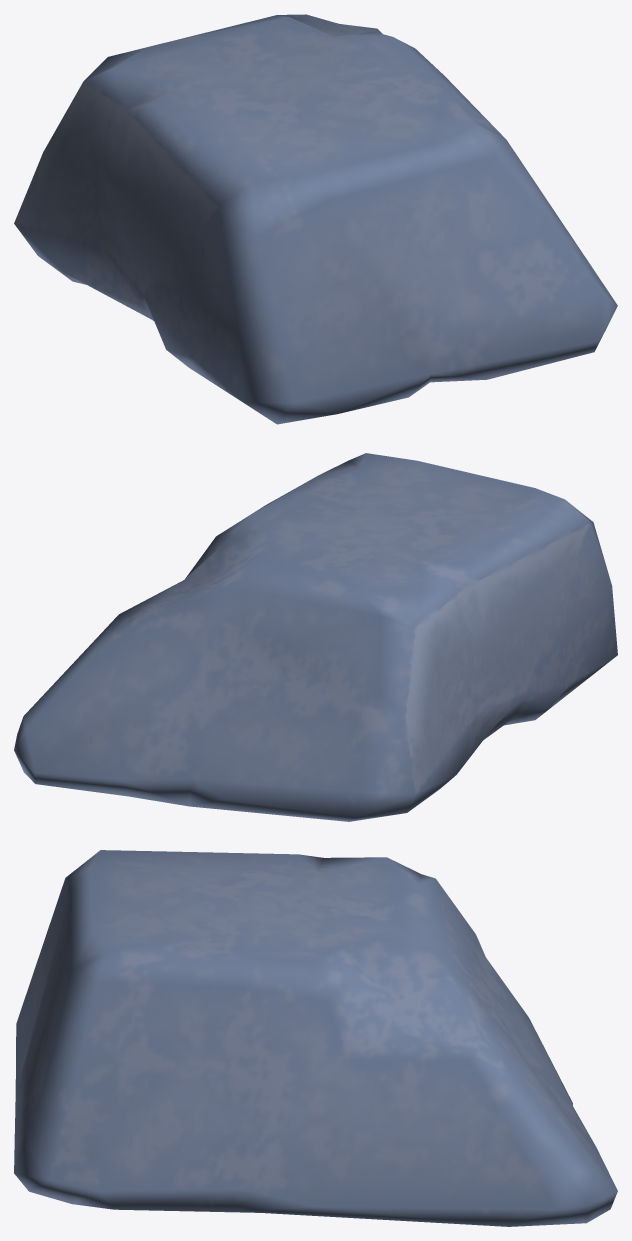
File: SM_Stage_Final_Crack_02.fbx
3 renders of one model, top to bottom at view 1: azimuth 30°, elevation 25°; view 2: azimuth 150°, elevation 25°; view 3: azimuth 270°, elevation 25°, orthographic. The views are drawn at different scales.
Visible parts, largest first — view 1: SM_Stage_Final_Crack_02; view 2: SM_Stage_Final_Crack_02; view 3: SM_Stage_Final_Crack_02.
Boxes of the visible parts, box(x1,y1,x2,y2) form: SM_Stage_Final_Crack_02: box(14, 14, 617, 424); SM_Stage_Final_Crack_02: box(14, 453, 617, 821); SM_Stage_Final_Crack_02: box(14, 850, 617, 1226).
Bounding box in the file's own units: 29.95 × 14.82 × 38.96.
1 material, 1 textured.
